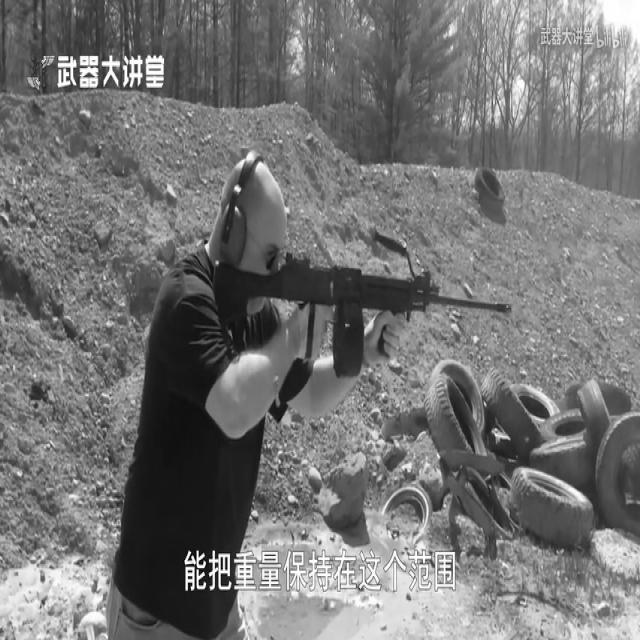Sniper: (152, 158, 554, 558)
